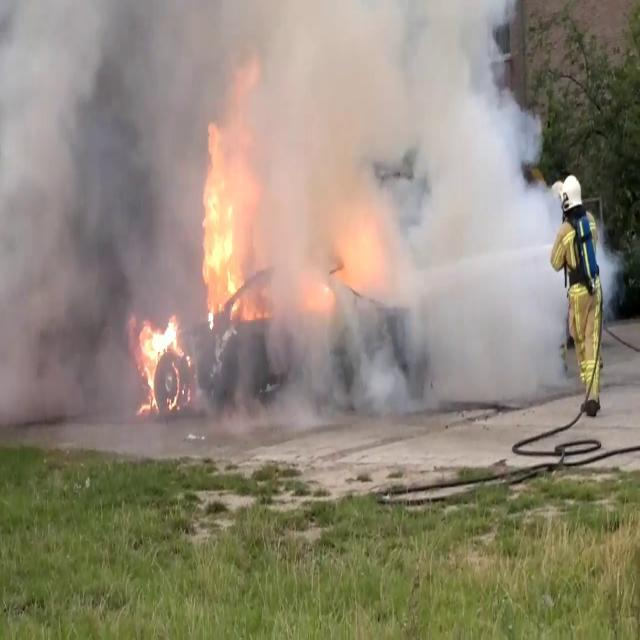Fire: (197, 117, 255, 324), (135, 306, 184, 409)
Smoke: (1, 0, 565, 425), (0, 0, 170, 425)
